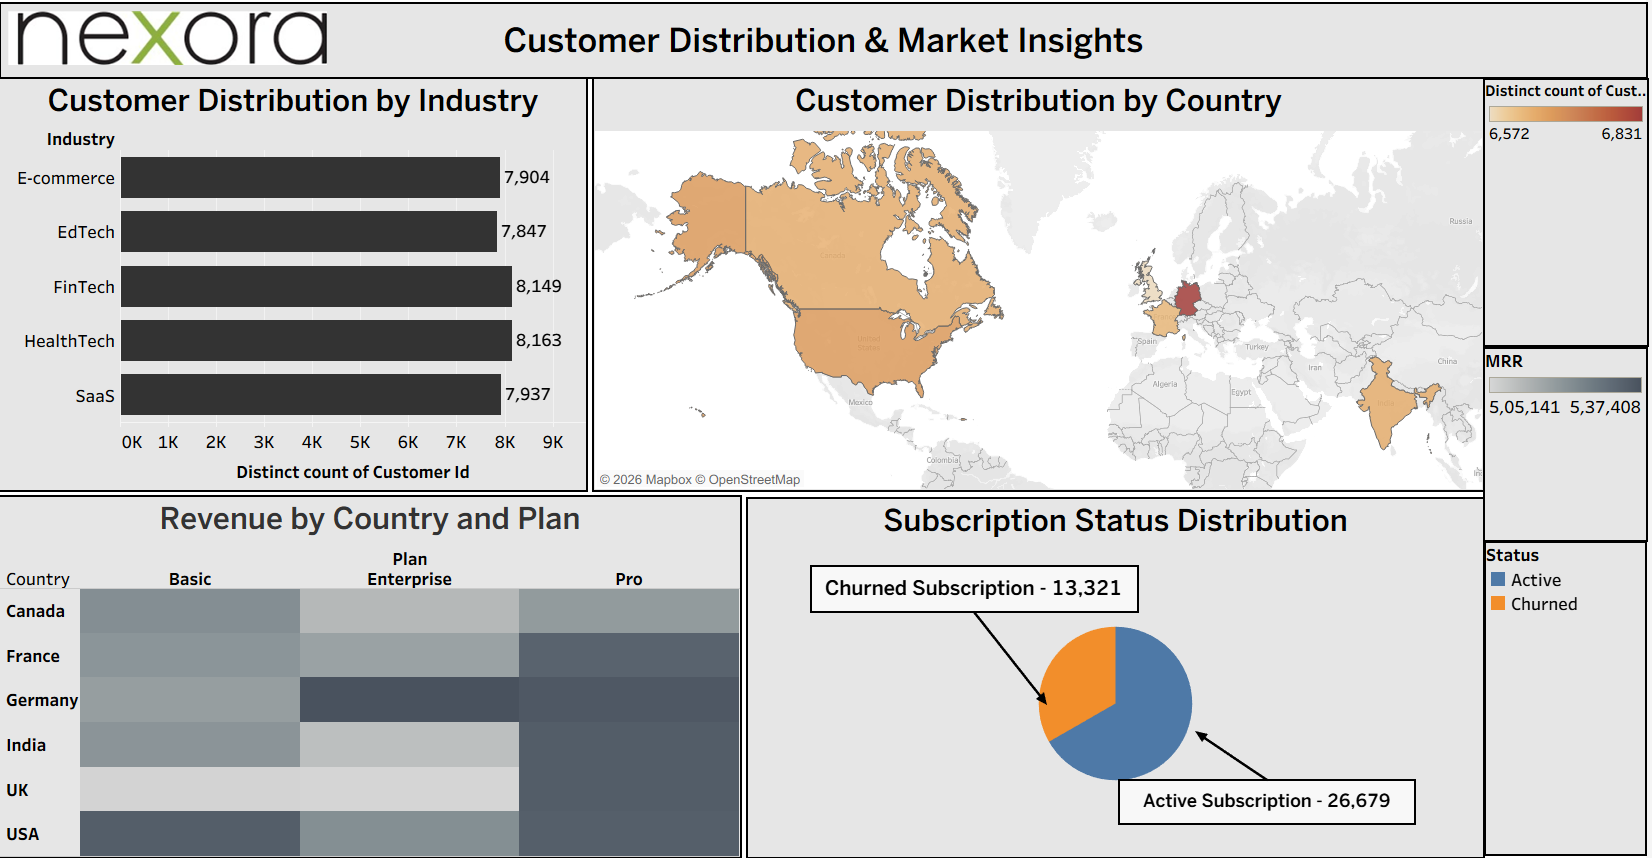

The page's visual inventory and layout, read from the dashboard file:
{"tool":"tableau","page":{"name":"Customer Distribution & Market Insights","canvas":[1000,1000],"units":"permille","ordinal":0},"visuals":[{"type":"text","box":[1.8,3.5,999.4,89.5]},{"type":"image","param":"Image/image2.jpg","box":[7.3,14,193.3,69.8]},{"type":"worksheet","title":"Customer Distribution by Industry","mark":"Automatic","rows":["industry"],"cols":["customer_id"],"box":[1.2,90.7,357.6,482.6]},{"type":"worksheet","title":"Customer Distribution by Country","mark":"Automatic","box":[361.2,90.7,541.2,482.6]},{"type":"legend","title":"Customer Distribution by Country","param":"[federated.0i4d55b09ys8sk15b942h0tkai63].[ctd:customer_id:qk]","box":[901.2,91.9,100.6,312.8]},{"type":"legend","title":"Revenue by Country and Plan","param":"[federated.0i4d55b09ys8sk15b942h0tkai63].[usr:Calculation_1881849669201920:qk]","box":[901.2,404.7,100,226.7]},{"type":"worksheet","title":"Revenue by Country and Plan","mark":"Automatic","rows":["country"],"cols":["plan"],"box":[1.2,576.7,450.9,423.3]},{"type":"worksheet","title":"Subscription Status Distribution","mark":"Pie","box":[454.6,579.1,447.9,420.9]},{"type":"legend","title":"Subscription Status Distribution","param":"[federated.0i4d55b09ys8sk15b942h0tkai63].[none:status:nk]","box":[901.8,630.2,98.8,366.3]}]}

Visuals, with their boxes on the dashboard's canvas, which has no fixed pixel size, in thousandths of its width and height (x1, y1, x2, y2). These are canvas units, not pixel positions in the 1652x858 screenshot, which may show the page scaled, cropped or inside an application window:
text: box(2, 4, 1001, 93)
image: box(7, 14, 201, 84)
"Customer Distribution by Industry" worksheet: box(1, 91, 359, 573)
"Customer Distribution by Country" worksheet: box(361, 91, 902, 573)
"Customer Distribution by Country" legend: box(901, 92, 1002, 405)
"Revenue by Country and Plan" legend: box(901, 405, 1001, 631)
"Revenue by Country and Plan" worksheet: box(1, 577, 452, 1000)
"Subscription Status Distribution" worksheet (Pie marks): box(455, 579, 902, 1000)
"Subscription Status Distribution" legend: box(902, 630, 1001, 996)
